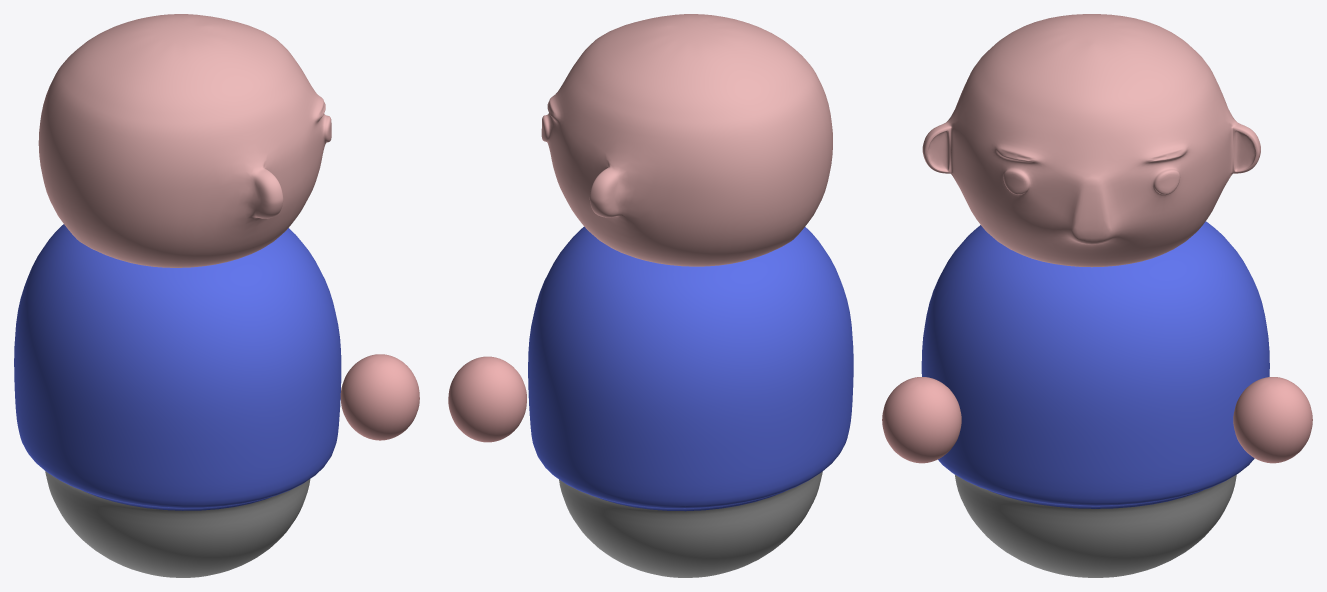
File: Person_BaseForm.fbx
The picture shows the model from 3 angles, left to right: view 1: azimuth 30°, elevation 25°; view 2: azimuth 150°, elevation 25°; view 3: azimuth 270°, elevation 25°; orthographic projection.
Visible parts, largest first — view 1: Corpo, Cabeça, Mãos; view 2: Corpo, Cabeça, Mãos; view 3: Corpo, Cabeça, Mãos.
Part boxes in pixels (box(x1,y1,x2,y2)): Corpo: box(14, 224, 341, 577); Cabeça: box(38, 14, 331, 267); Mãos: box(340, 354, 419, 440); Corpo: box(528, 226, 853, 577); Cabeça: box(541, 14, 832, 266); Mãos: box(448, 356, 526, 442); Corpo: box(921, 221, 1269, 577); Cabeça: box(922, 14, 1260, 267); Mãos: box(882, 377, 1312, 463).
Bounding box in the file's own units: 101 × 178 × 130.
